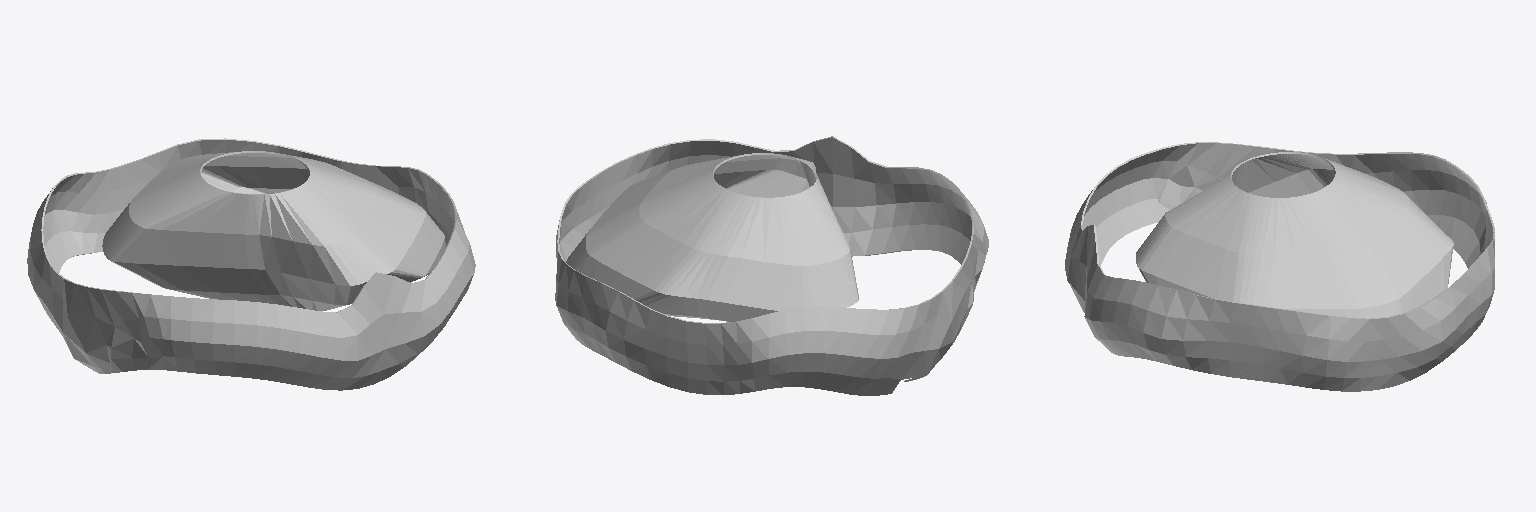
File: Icing.obj
3 views of the same model, side by side, from view 1: azimuth 30°, elevation 25°; view 2: azimuth 150°, elevation 25°; view 3: azimuth 270°, elevation 25° (orthographic).
Parts seen in each view (by area): view 1: icing.002; view 2: icing.002; view 3: icing.002.
Boxes of the visible parts, x1=… form: icing.002: x1=27, y1=138, x2=475, y2=390; icing.002: x1=555, y1=136, x2=988, y2=395; icing.002: x1=1065, y1=142, x2=1494, y2=391.
Bounding box in the file's own units: 0.1219 × 0.0516 × 0.1224.